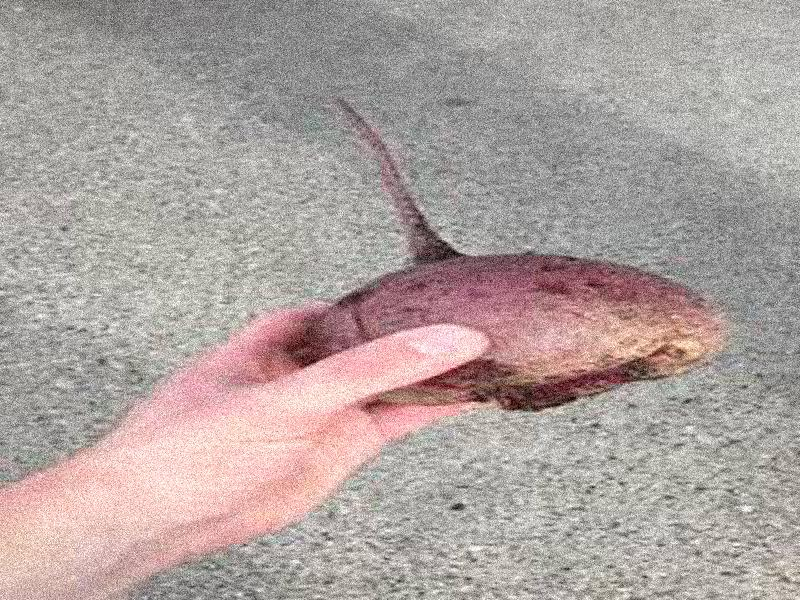Beet: (319, 100, 724, 410)
